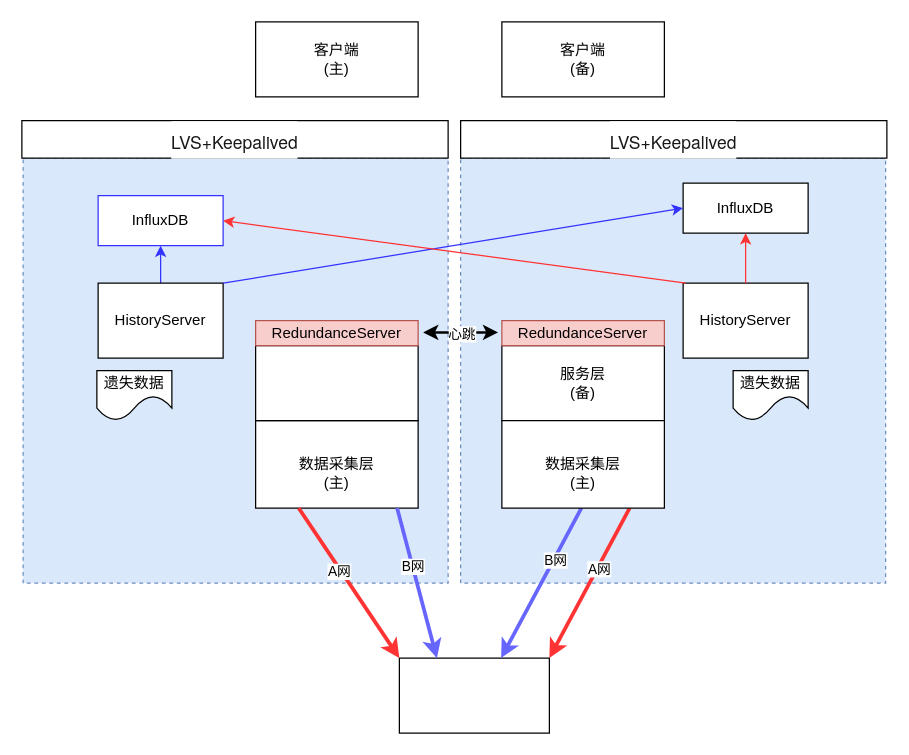
Some shapes in this 909 by 755 pixel diagram are drawn without their labels. The shapes that lost their labels are listed below. From the top down, each one's box as (x1, y1, x2, y2) in pixels, then its label:
(22, 157, 448, 583): 主服务器
(254, 344, 418, 421): 服务层 (主)
(459, 157, 886, 583): 备服务器
(398, 657, 549, 733): PCS
